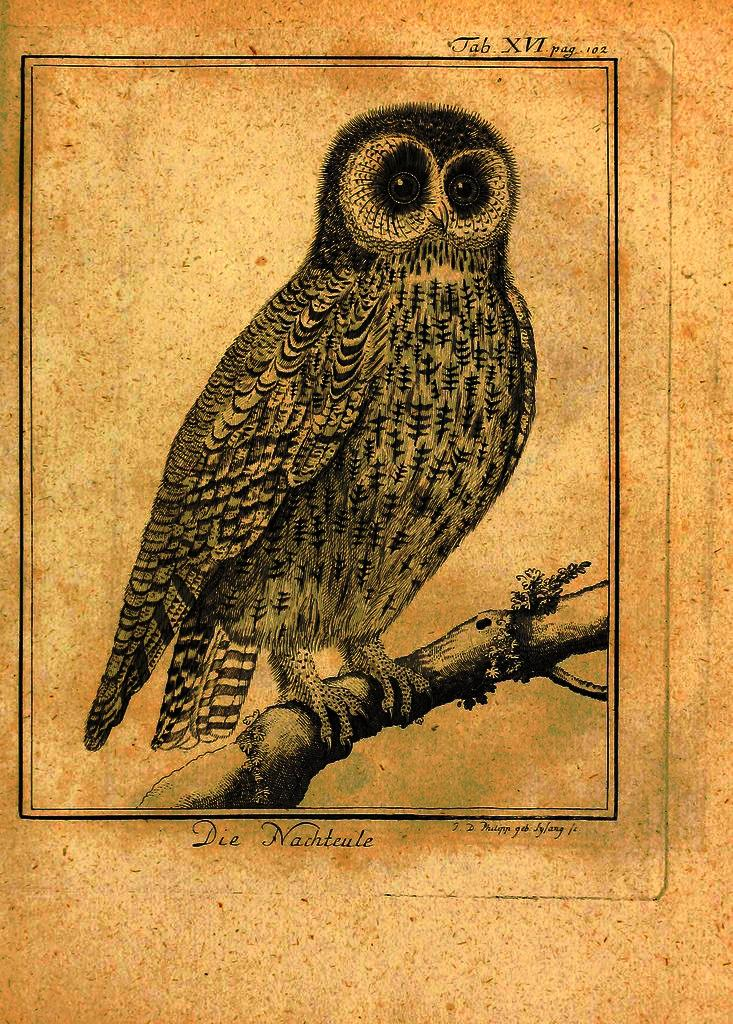Owl: (89, 102, 538, 753)
